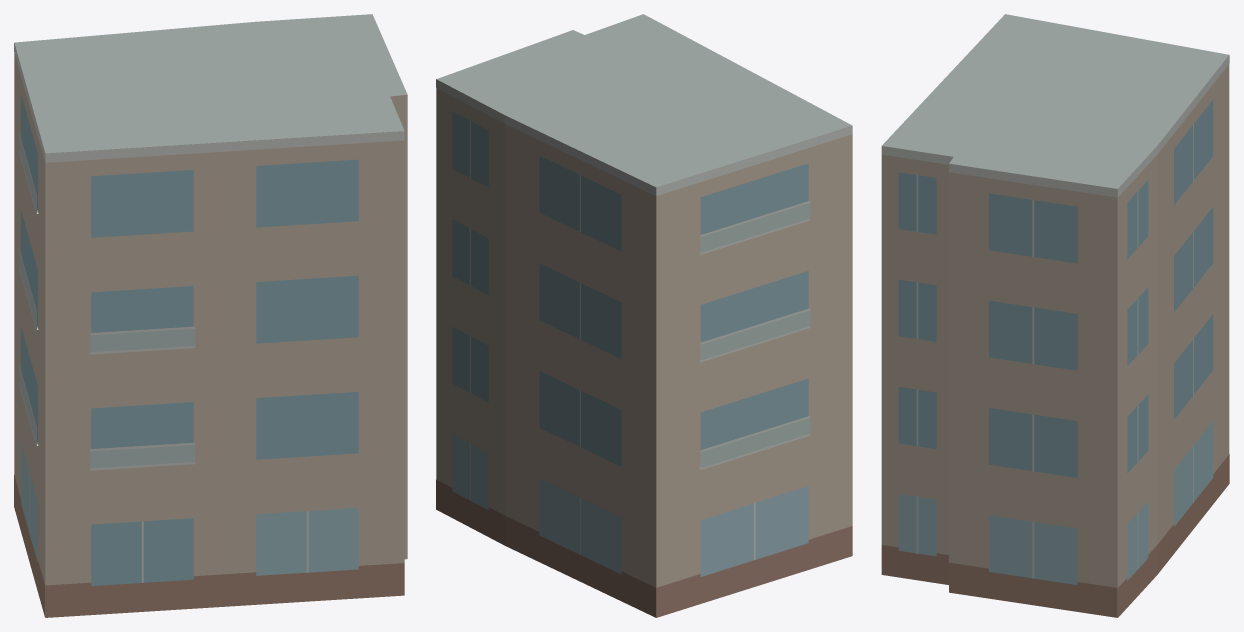
Rendered from survey-upis-32980620.glb.
The picture shows the model from 3 angles, left to right: view 1: azimuth 30°, elevation 25°; view 2: azimuth 150°, elevation 25°; view 3: azimuth 270°, elevation 25°; orthographic projection. The views are drawn at different scales.
Visible parts, largest first — view 1: survey-upis-32980620.tmp; view 2: survey-upis-32980620.tmp; view 3: survey-upis-32980620.tmp.
Boxes of the visible parts, left/top/right/bottom form: survey-upis-32980620.tmp: left=14, top=14, right=407, bottom=617; survey-upis-32980620.tmp: left=436, top=14, right=852, bottom=617; survey-upis-32980620.tmp: left=881, top=14, right=1229, bottom=617.
Bounding box in the file's own units: 10.6 × 12.1 × 8.91.
